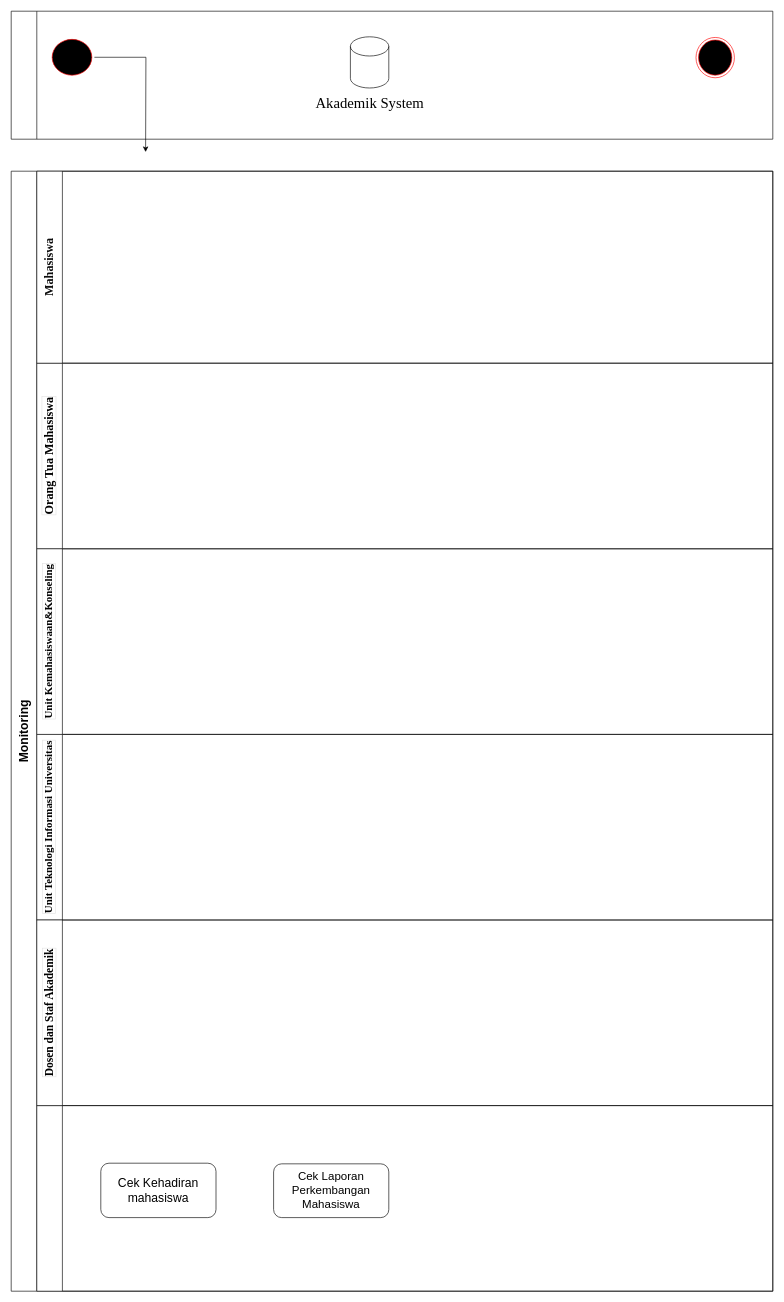
Image size: 784x1302. Some labels were removed from this diagram. Each missing label, with the box of its shape:
Aplikasi: (11, 11, 773, 139)
Pimpinan Universitas (Rektor, Wakil Rektor): (36, 1105, 773, 1291)
